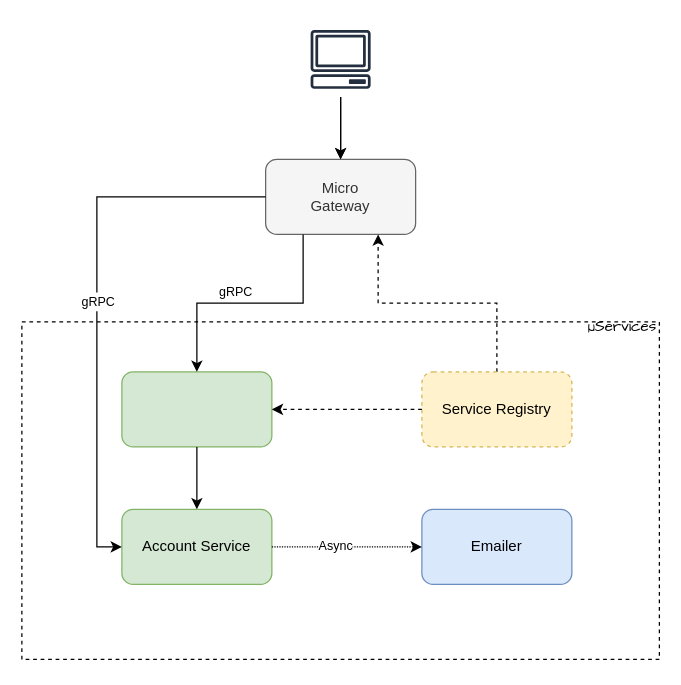
Some shapes in this 681 by 685 pixel diagram are drawn without their labels. Each missing label, with the box of its shape:
Client Service: (121, 371, 272, 447)
REST: (302, 21, 378, 97)
